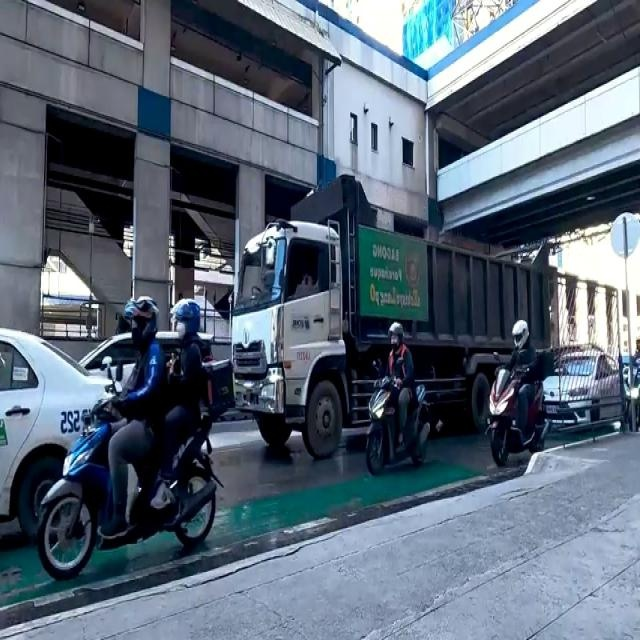car: (546, 348, 610, 425)
motorcycle: (46, 319, 195, 576), (360, 344, 425, 470), (485, 333, 542, 467)
truck: (231, 191, 543, 446)
